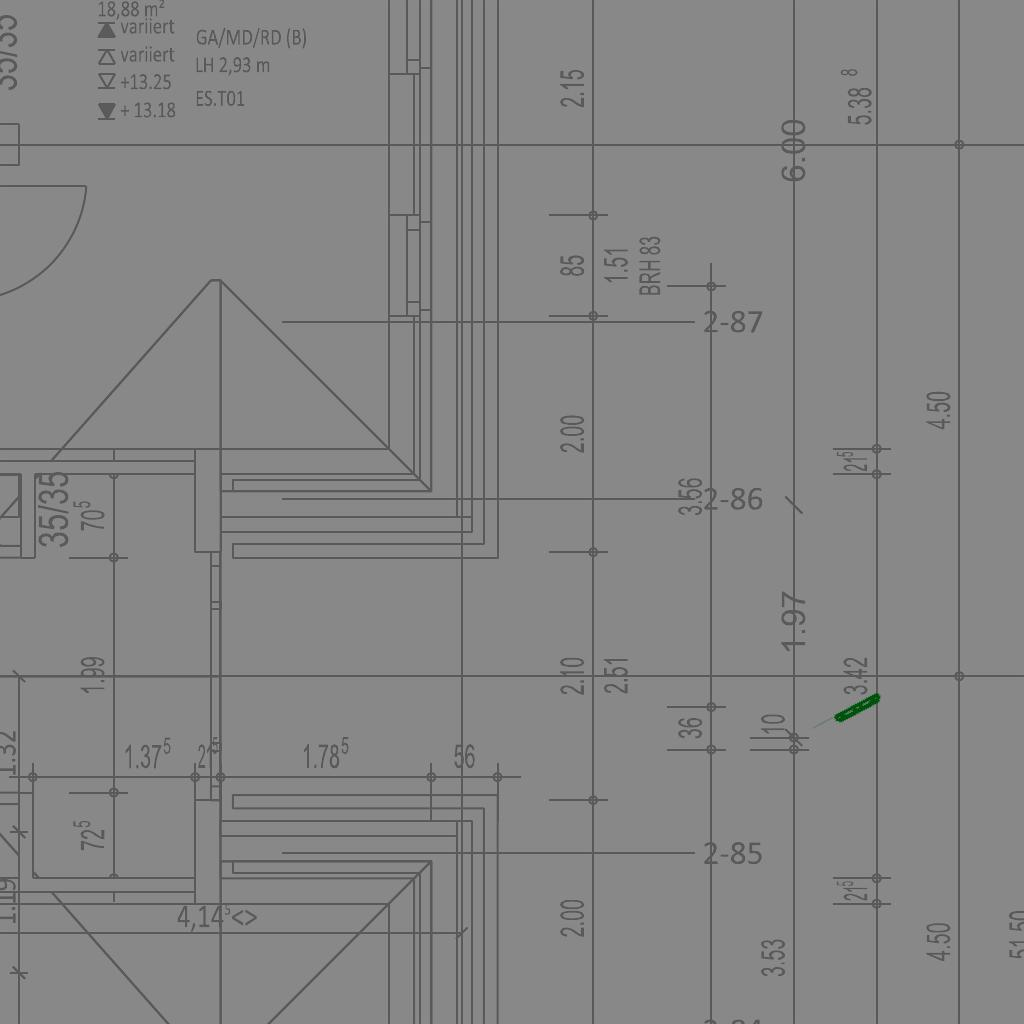Sicherheitsleuchte_Wandeinbau: (809, 690, 885, 739)
